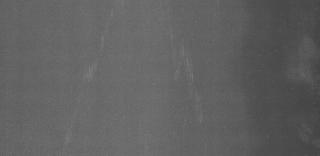silk spot: (163, 26, 204, 118), (77, 11, 117, 81)
